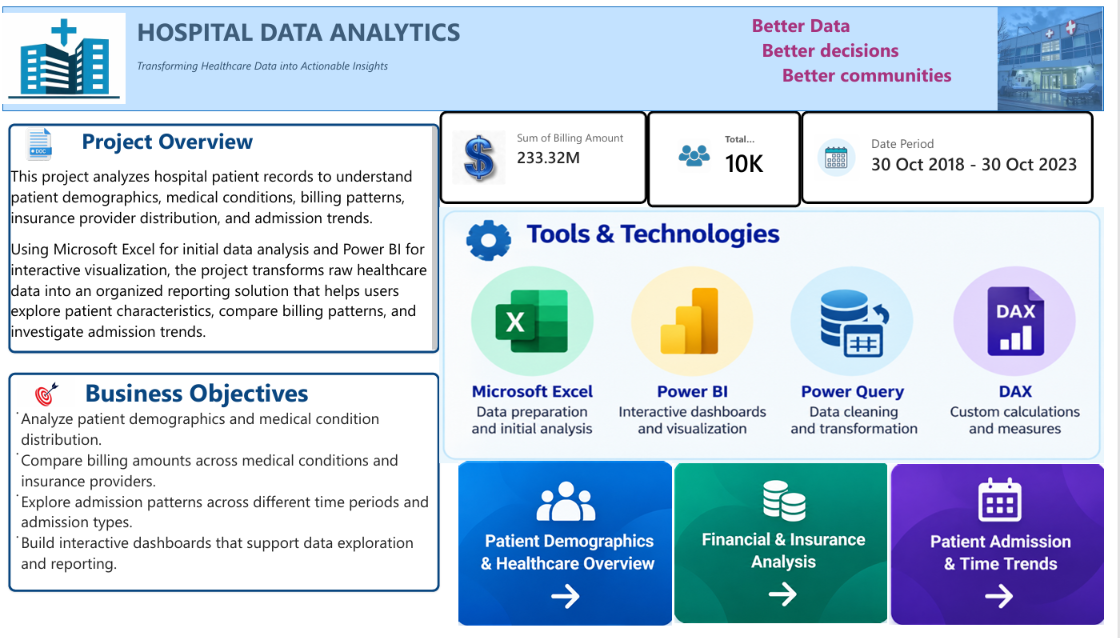

The page's visual inventory and layout, read from the dashboard file:
{"tool":"powerbi","page":{"name":"Project Overview","canvas":[1920,1080],"ordinal":0},"visuals":[{"type":"textbox","box":[234,14,606,130],"z":0},{"type":"textbox","box":[10,204,752,400],"z":1000},{"type":"textbox","box":[10,638,752,382],"z":2000},{"type":"image","box":[762,350,1158,446],"z":3000},{"type":"image","box":[796,792,372,288],"z":4000},{"type":"image","box":[1168,796,378,278],"z":5000},{"type":"image","box":[1546,796,374,284],"z":6000},{"type":"cardVisual","fields":{"Data":["Healthcare_Data_v1__1.Total Patients"]},"box":[1124,182,268,168],"z":7000},{"type":"cardVisual","fields":{"Data":["Sum(Healthcare_Data_v1__1. Billing Amount )"]},"box":[762,182,362,162],"z":9000},{"type":"cardVisual","fields":{"Data":["DateTable.Date Period"]},"box":[1392,182,510,162],"z":10000},{"type":"image","box":[1734,0,186,182],"z":11000},{"type":"shape","box":[0,0,1920,182],"z":11001},{"type":"textbox","box":[1306,10,390,172],"z":11002},{"type":"image","box":[10,204,106,72],"z":11003},{"type":"image","box":[26,638,100,68],"z":11004},{"type":"image","box":[0,0,214,182],"z":11005}]}

Visuals, with their boxes in screenshot pixels (x1, y1, x2, y2), scaled from the page's 1920x1080 canvas onto the 1120x638 screenshot:
textbox: l=136, t=8, r=490, b=85
textbox: l=6, t=121, r=444, b=357
textbox: l=6, t=377, r=444, b=603
image: l=444, t=207, r=1119, b=470
image: l=464, t=468, r=681, b=637
image: l=681, t=470, r=902, b=634
image: l=902, t=470, r=1119, b=637
cardVisual - Healthcare_Data_v1__1.Total Patients: l=656, t=108, r=812, b=207
cardVisual - Sum(Healthcare_Data_v1__1. Billing Amount ): l=444, t=108, r=656, b=203
cardVisual - DateTable.Date Period: l=812, t=108, r=1110, b=203
image: l=1012, t=0, r=1119, b=108
shape: l=0, t=0, r=1119, b=108
textbox: l=762, t=6, r=989, b=108
image: l=6, t=121, r=68, b=163
image: l=15, t=377, r=74, b=417
image: l=0, t=0, r=125, b=108
